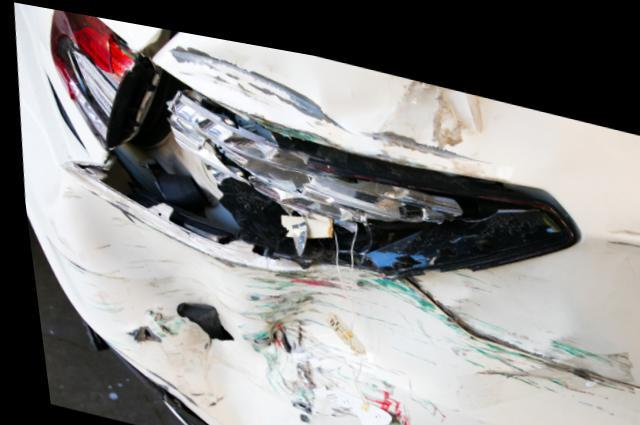dent: (63, 166, 525, 425), (174, 32, 508, 159), (406, 251, 576, 343)
lamp broken: (50, 8, 575, 264)
scratch: (501, 335, 632, 396), (557, 322, 629, 362), (600, 200, 640, 244)
